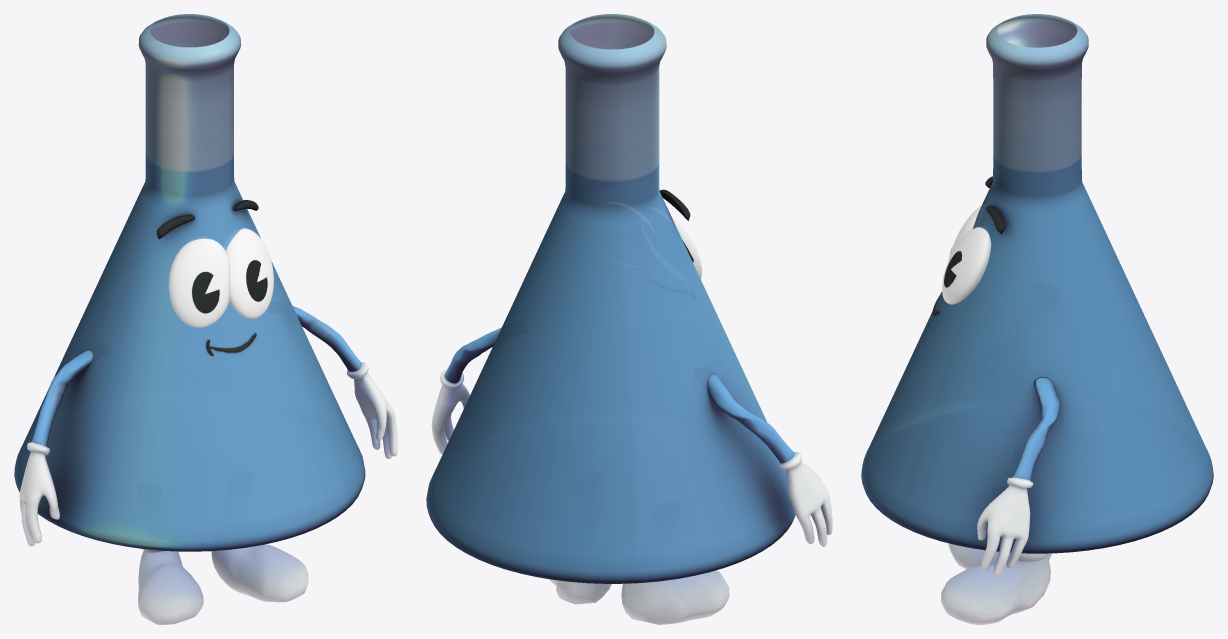
The model's file is geco_avatar.glb.
3 renders of one model, left to right at view 1: azimuth 30°, elevation 25°; view 2: azimuth 150°, elevation 25°; view 3: azimuth 270°, elevation 25°, orthographic. The views are drawn at different scales.
Parts seen in each view (by area): view 1: geco_character; view 2: geco_character; view 3: geco_character.
Part boxes in pixels (x1,y1,x2,y2): geco_character: [14, 14, 397, 624]; geco_character: [426, 14, 832, 624]; geco_character: [861, 14, 1213, 624].
Bounding box in the file's own units: 1.11 × 1.6 × 0.9195.
Materials: 2 (2 with a texture image).
